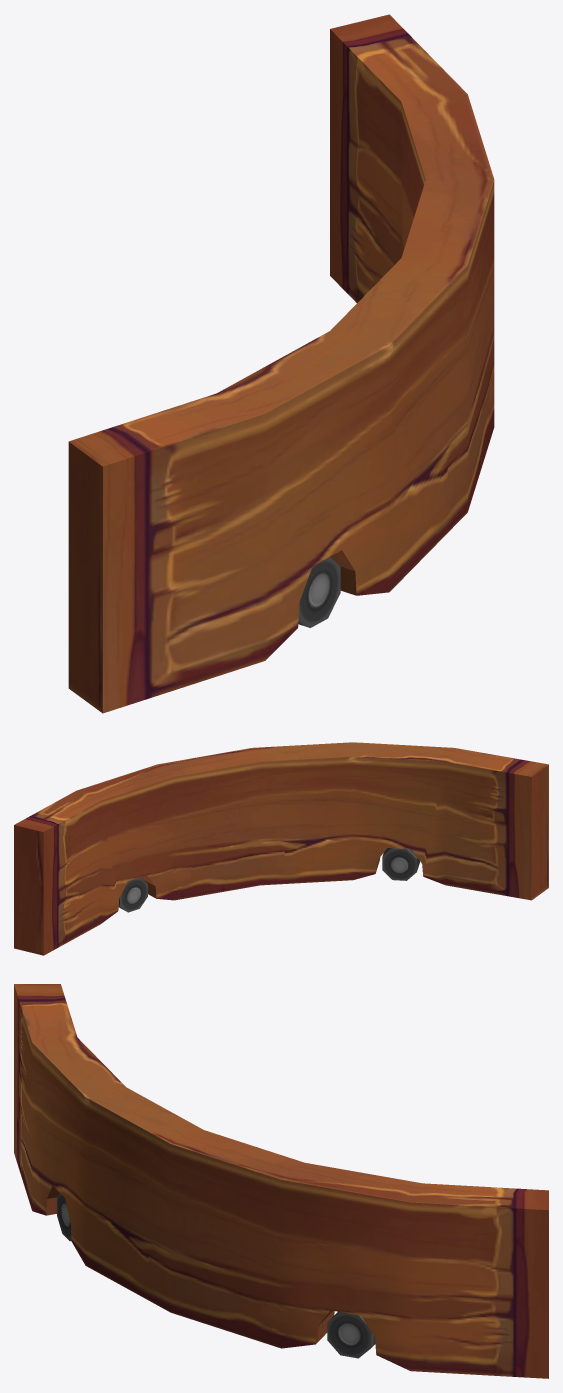
File: dynamic_arched_fence_wood_03.fbx
3 views of the same model, one above another, from view 1: azimuth 30°, elevation 25°; view 2: azimuth 150°, elevation 25°; view 3: azimuth 270°, elevation 25° (orthographic). The views are drawn at different scales.
Parts seen in each view (by area): view 1: dynamic_arched_fence_wood_03; view 2: dynamic_arched_fence_wood_03; view 3: dynamic_arched_fence_wood_03.
Boxes of the visible parts, x1,y1,x2,y2 form: dynamic_arched_fence_wood_03: (68,14,494,713); dynamic_arched_fence_wood_03: (14,742,548,955); dynamic_arched_fence_wood_03: (14,984,548,1378).
Size of the model in its own units: 115 by 40 by 115.
